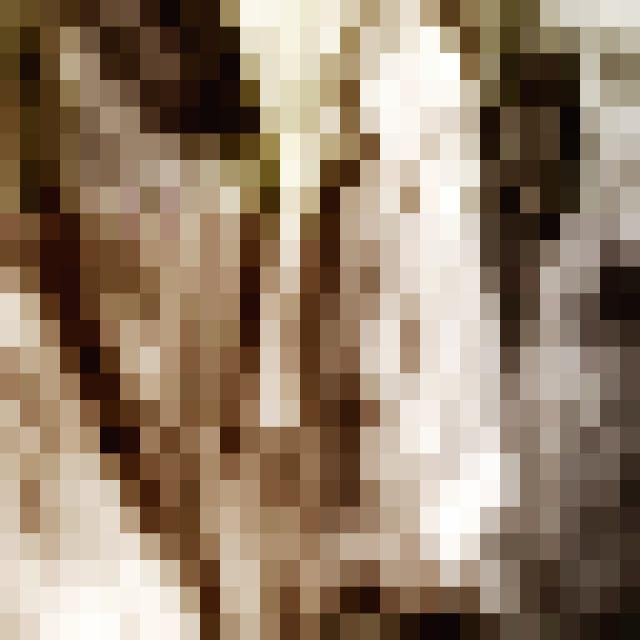arms: (600, 0, 640, 640)
